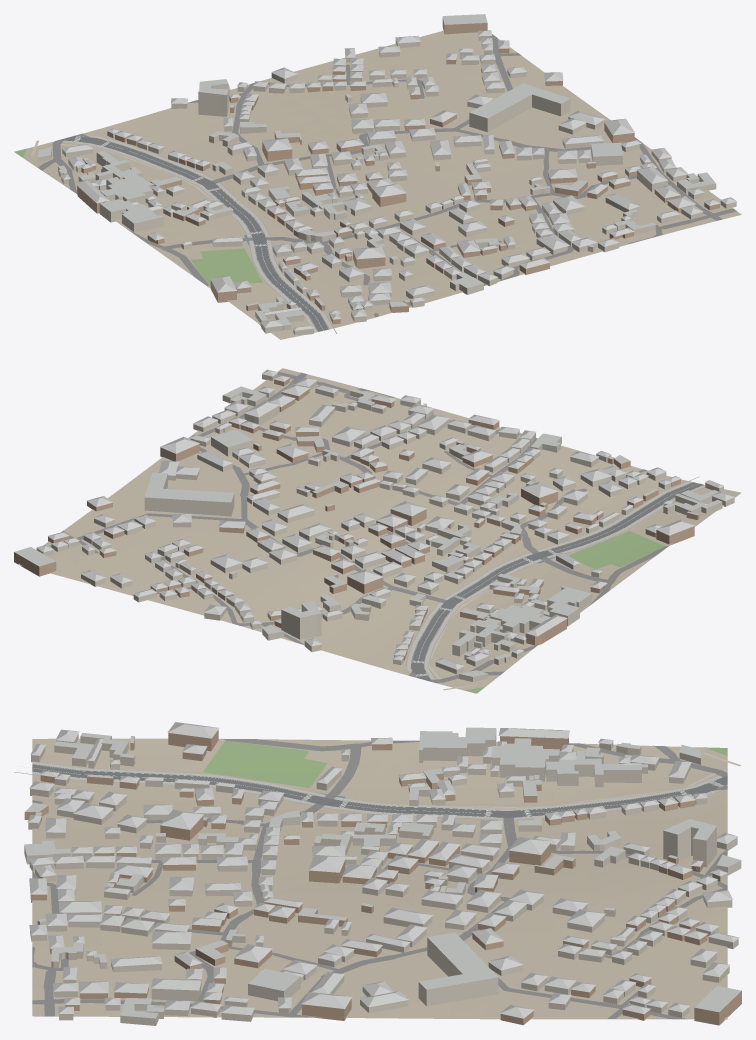
Rendered from bolak_-1_1.glb.
3 renders of one model, top to bottom at view 1: azimuth 30°, elevation 25°; view 2: azimuth 150°, elevation 25°; view 3: azimuth 270°, elevation 25°, orthographic. The views are drawn at different scales.
Parts seen in each view (by area): view 1: Yer_Tuproq-col, Tom_Shifer, Devor_Suvoq-col, Devor_Gisht-col, Yol_Mahalla-col, Yol_Asfalt-col, Trotuar, Yer_Maysa, Ariq; view 2: Yer_Tuproq-col, Tom_Shifer, Devor_Suvoq-col, Devor_Gisht-col, Yol_Mahalla-col, Yol_Asfalt-col, Trotuar, Yer_Maysa, Ariq; view 3: Yer_Tuproq-col, Tom_Shifer, Devor_Suvoq-col, Devor_Gisht-col, Yol_Mahalla-col, Yol_Asfalt-col, Yer_Maysa, Trotuar, Ariq, Yol_Chiziq, Yol_Piyoda.
Part boxes in pixels (x1,y1,x2,y2): Yer_Tuproq-col: [23, 31, 741, 339]; Tom_Shifer: [38, 14, 736, 330]; Devor_Suvoq-col: [37, 36, 736, 335]; Devor_Gisht-col: [77, 17, 719, 324]; Yol_Mahalla-col: [38, 34, 736, 317]; Yol_Asfalt-col: [60, 135, 329, 331]; Trotuar: [63, 135, 332, 332]; Yer_Maysa: [14, 148, 262, 285]; Ariq: [63, 134, 337, 333]; Yer_Tuproq-col: [17, 368, 741, 690]; Tom_Shifer: [14, 369, 734, 676]; Devor_Suvoq-col: [36, 373, 734, 681]; Devor_Gisht-col: [14, 378, 699, 660]; Yol_Mahalla-col: [49, 371, 669, 682]; Yol_Asfalt-col: [411, 482, 703, 681]; Trotuar: [407, 481, 705, 679]; Yer_Maysa: [464, 531, 665, 693]; Ariq: [406, 476, 704, 679]; Yer_Tuproq-col: [32, 738, 727, 1019]; Tom_Shifer: [24, 722, 741, 1018]; Devor_Suvoq-col: [24, 730, 741, 1025]; Devor_Gisht-col: [24, 730, 741, 1025]; Yol_Mahalla-col: [32, 738, 727, 1019]; Yol_Asfalt-col: [32, 764, 727, 818]; Yer_Maysa: [203, 740, 727, 788]; Trotuar: [32, 761, 727, 819]; Ariq: [14, 762, 722, 820]; Yol_Chiziq: [16, 762, 726, 817]; Yol_Piyoda: [334, 752, 741, 810].
Size of what is drawn, in the model's own units: 418 by 25.94 by 419.
